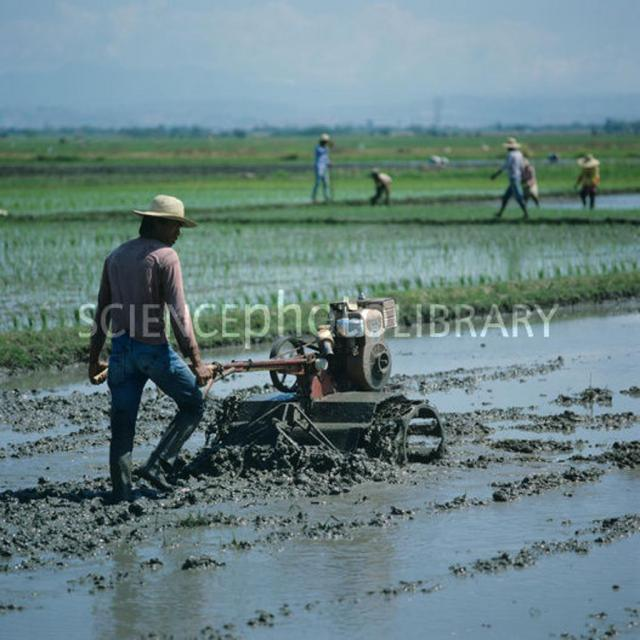nomask: (162, 220, 180, 245)
